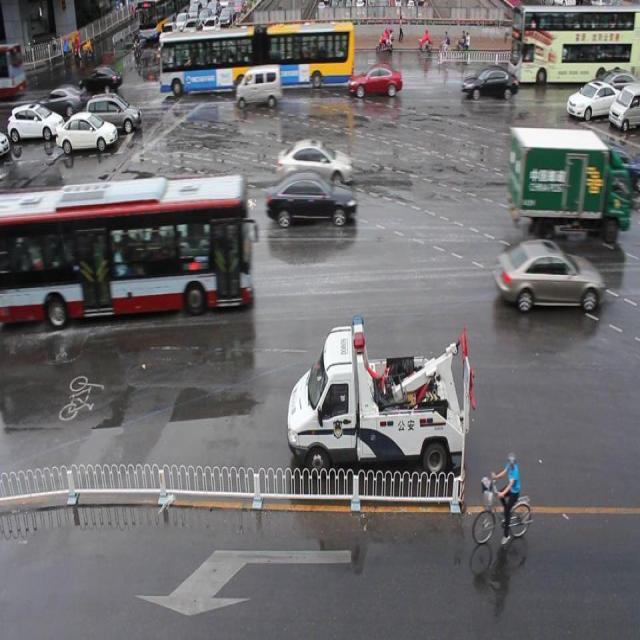bus: (506, 124, 627, 240)
car: (494, 238, 604, 312), (264, 173, 354, 229), (572, 137, 640, 191), (279, 138, 353, 186), (565, 80, 624, 118), (460, 64, 518, 102), (350, 64, 400, 102)
truck: (236, 62, 281, 112)
van: (1, 172, 250, 320), (161, 24, 353, 86), (509, 1, 640, 83)
